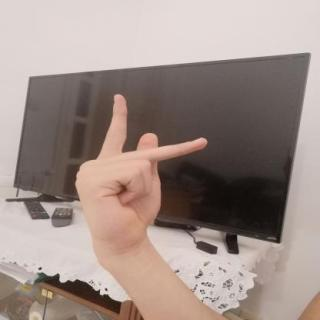DHAA: (66, 88, 217, 258)
